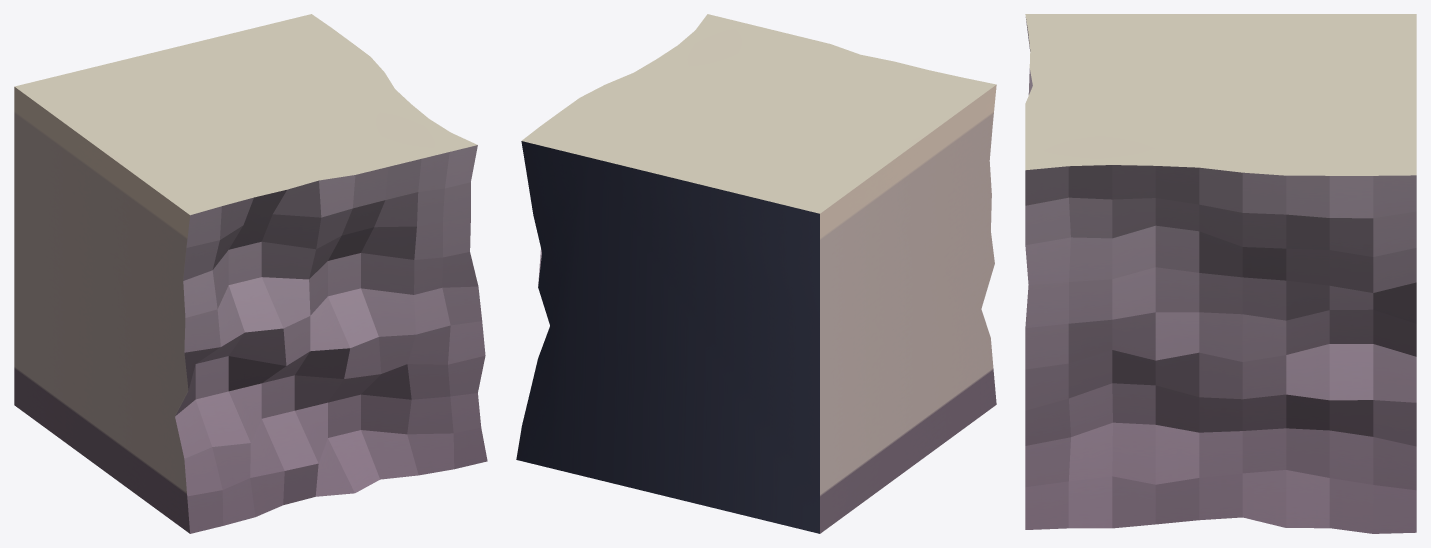
Rendered from cornerTerrainTile4.fbx.
The picture shows the model from 3 angles, left to right: view 1: azimuth 30°, elevation 25°; view 2: azimuth 150°, elevation 25°; view 3: azimuth 270°, elevation 25°; orthographic projection. The views are drawn at different scales.
Parts seen in each view (by area): view 1: base1.001; view 2: base1.001; view 3: base1.001.
Part boxes in pixels (box(x1,y1,x2,y2)): base1.001: box(14, 14, 487, 533); base1.001: box(516, 14, 996, 533); base1.001: box(1025, 14, 1416, 533).
Bounding box in the file's own units: 200 × 200 × 200.
